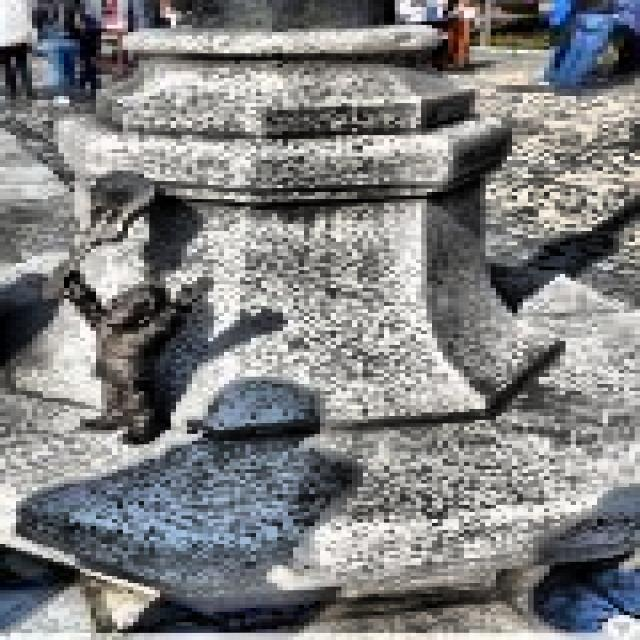Leszko_z_Wroclawia: (53, 171, 208, 444)
